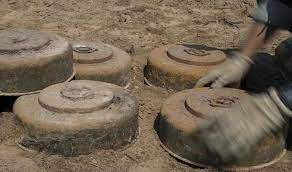car: (0, 75, 155, 157)
